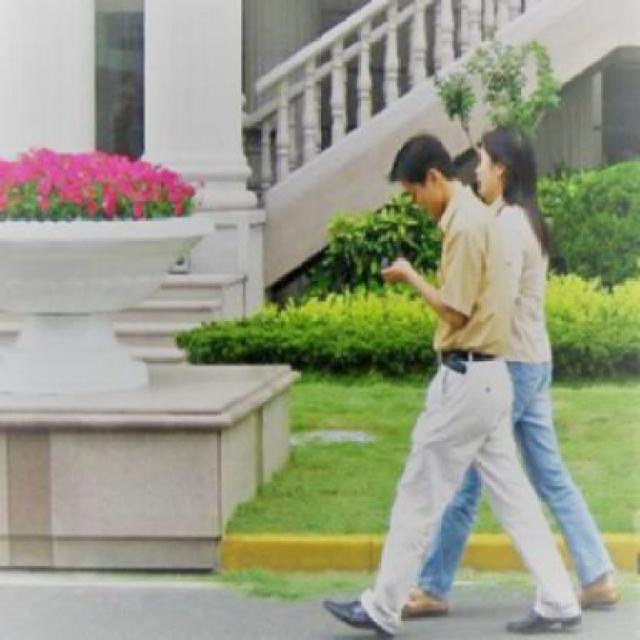Person: (320, 130, 588, 636), (456, 129, 630, 611)
